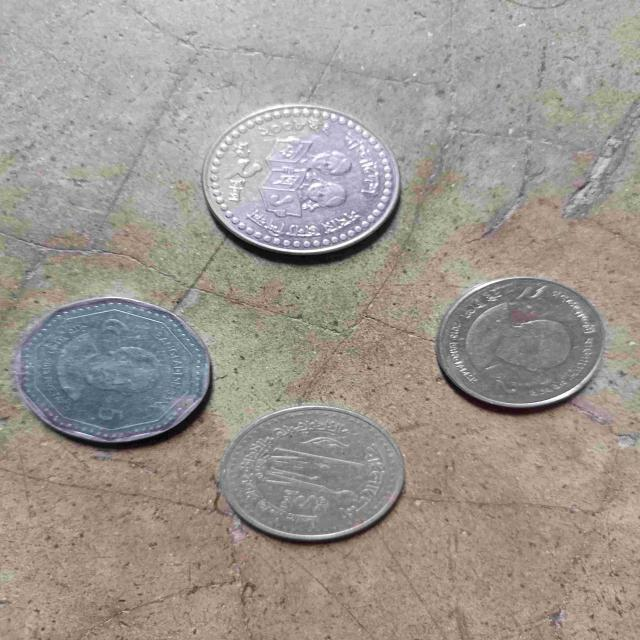1_taka: (217, 396, 416, 566)
2_taka: (177, 95, 437, 261), (428, 271, 638, 416)
5_taka: (11, 285, 215, 462)
